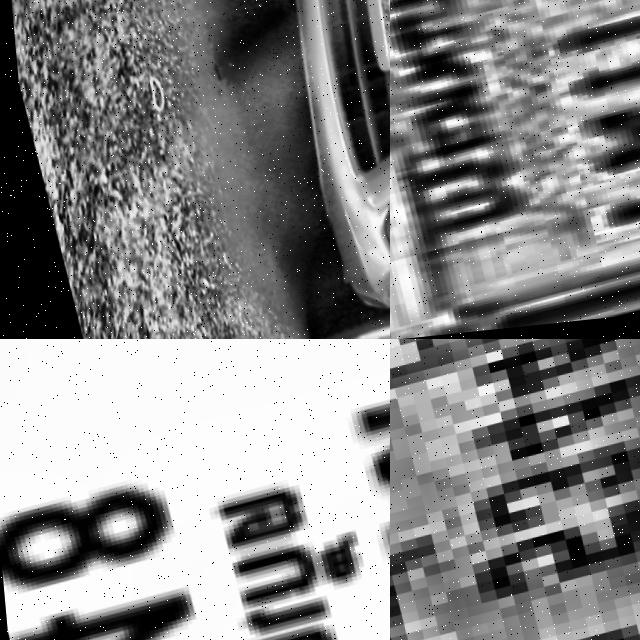license-plate: (0, 339, 390, 640), (390, 0, 640, 339), (390, 339, 640, 640), (341, 0, 390, 84)
